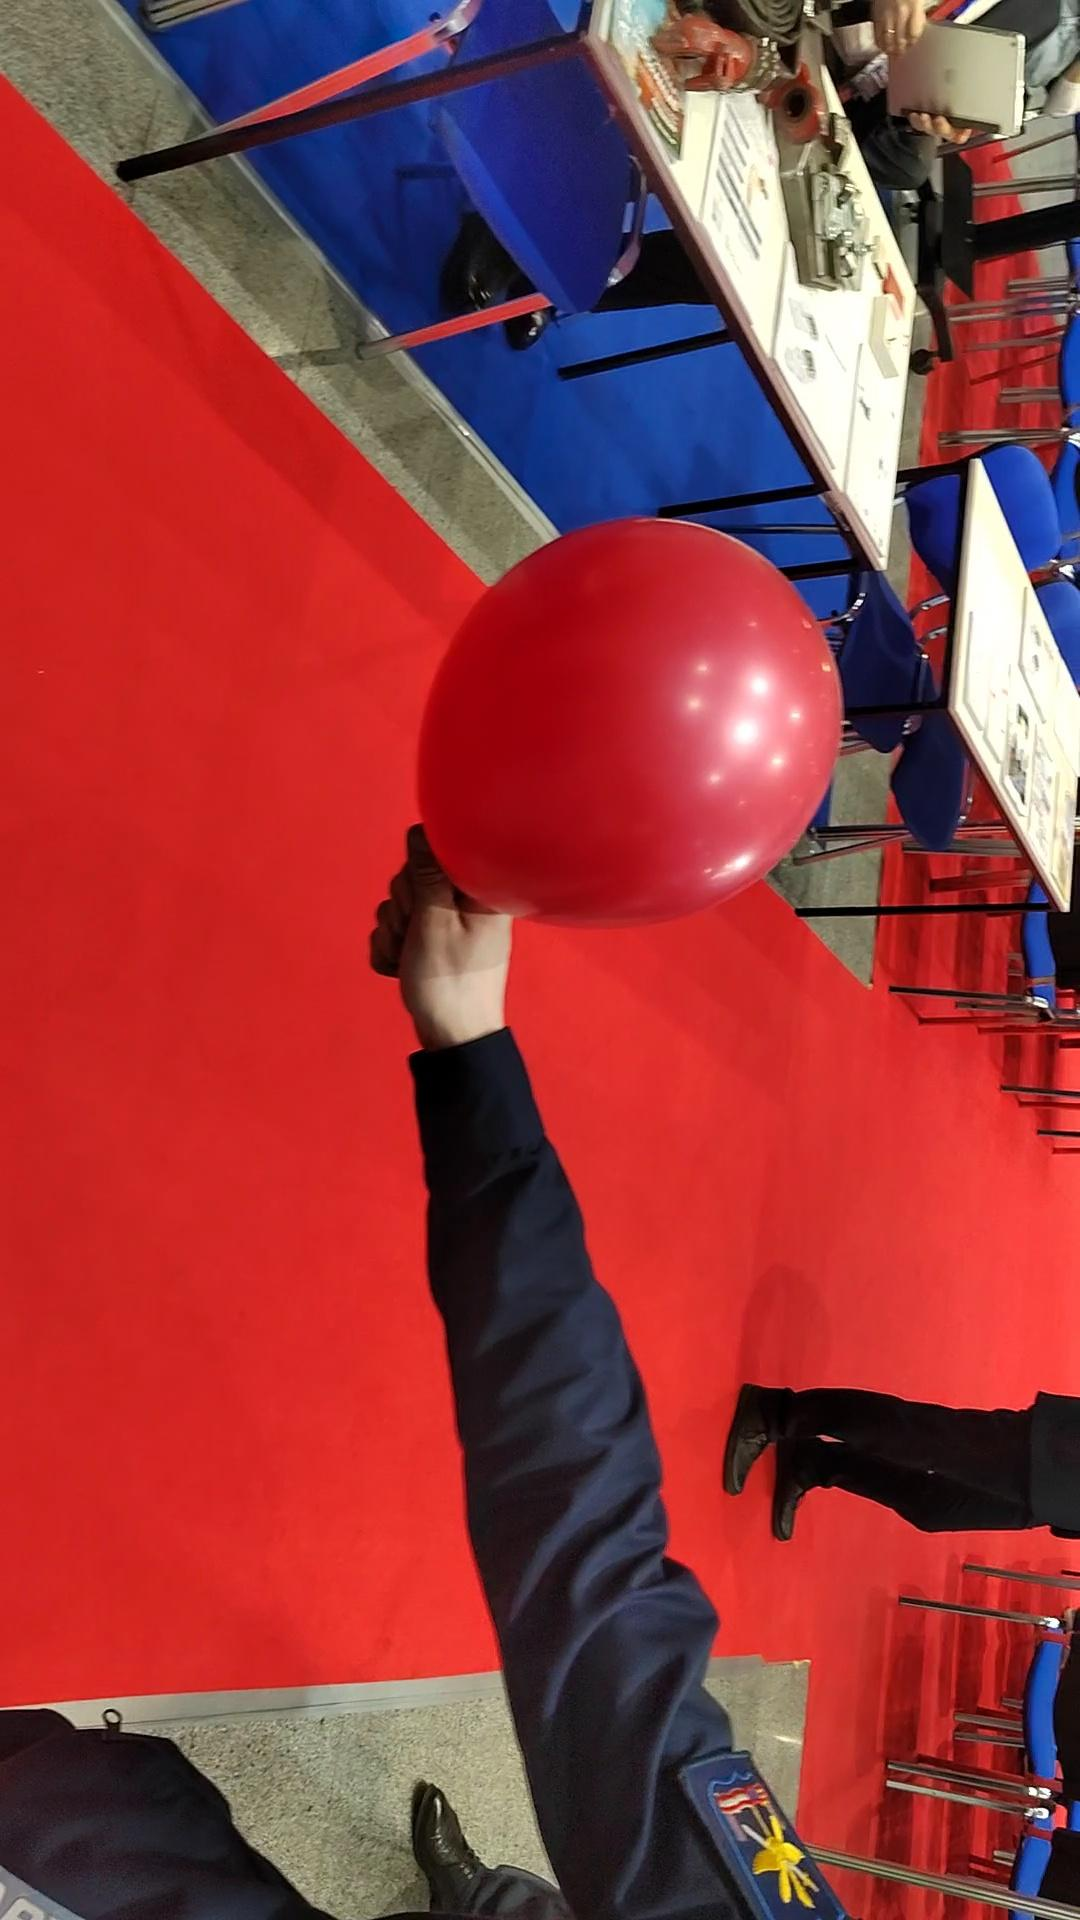red: (406, 505, 857, 938)
